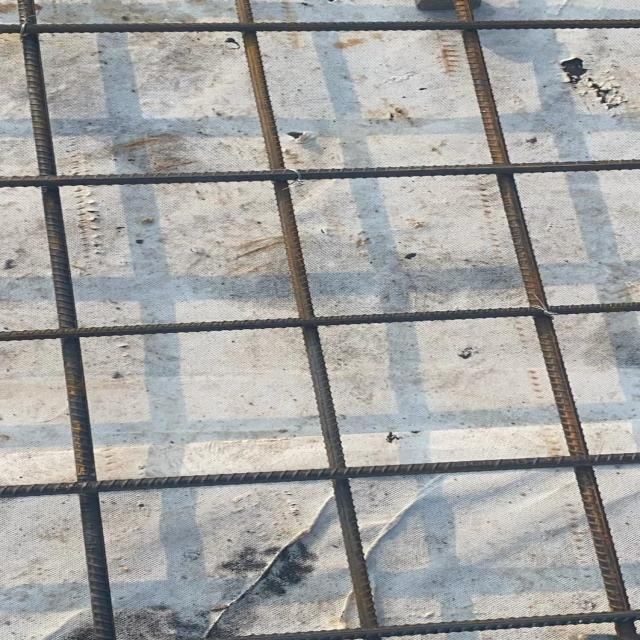ribbed bar: (452, 0, 638, 639), (231, 0, 381, 639), (20, 0, 118, 639), (0, 452, 639, 499), (0, 302, 639, 341), (0, 159, 639, 189), (171, 608, 639, 640), (0, 18, 639, 33)
